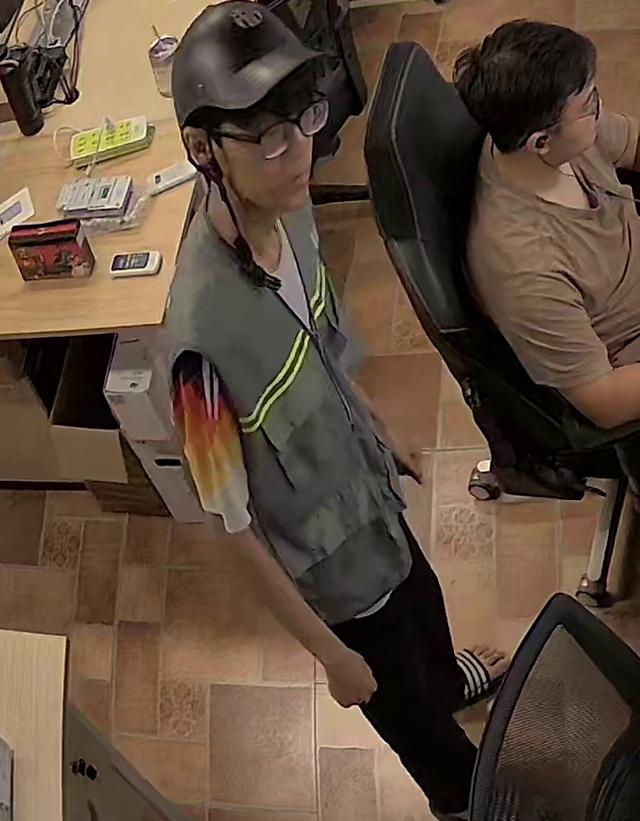helmet: (171, 0, 334, 132)
no_helmet: (455, 20, 590, 154)
none: (467, 114, 637, 412)
vest: (160, 187, 412, 612)
